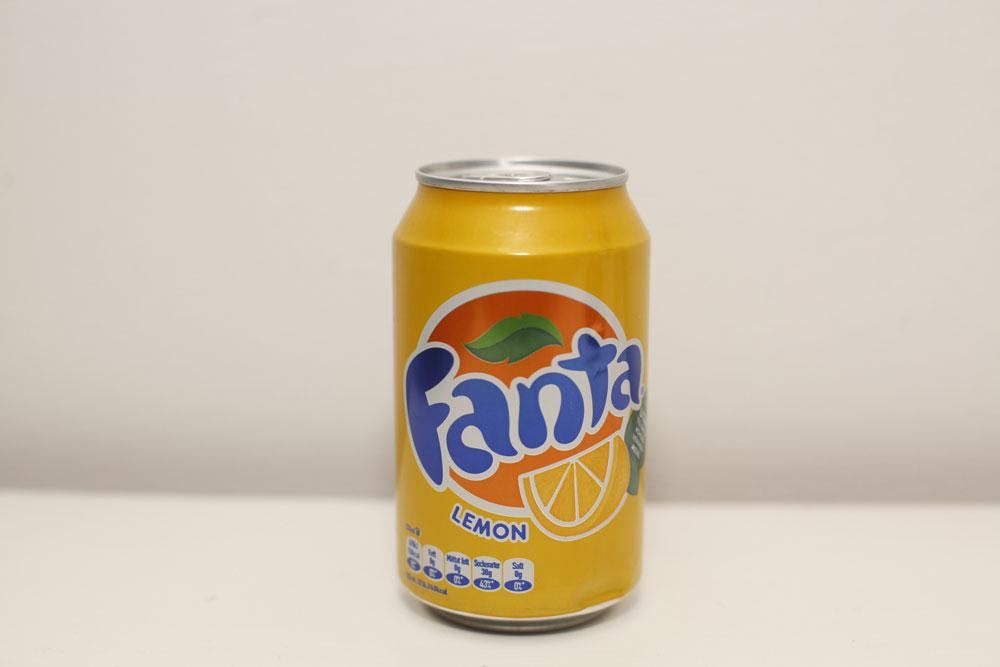metal: (394, 157, 650, 627)
